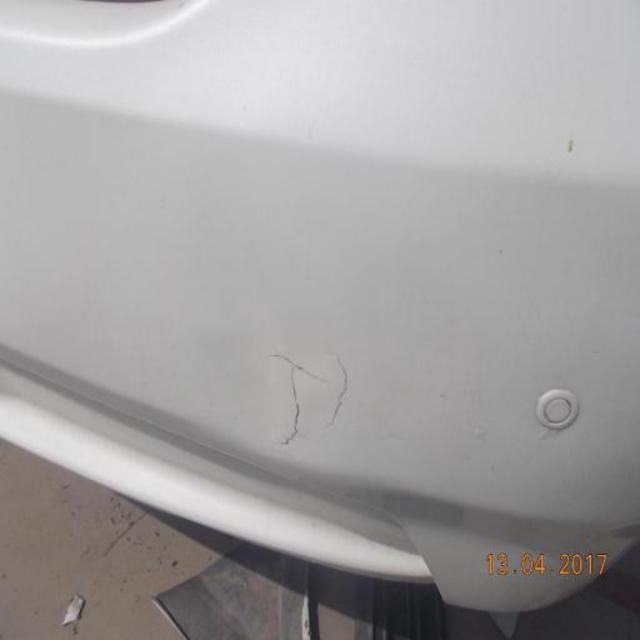scratch: (272, 347, 325, 449), (321, 336, 355, 429)
